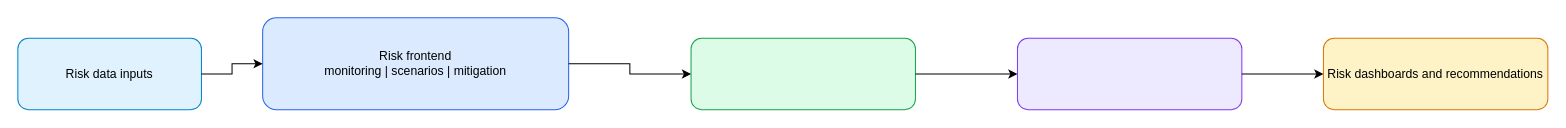
This 1566x128 diagram has some shape labels left out. Here are the shapes that lost their labels. From the top down, the centre of each, then its label:
At [802,73]: "Risk analytics and retrieval".
At [1129,73]: "Mistral + Qwen + bge-m3".
